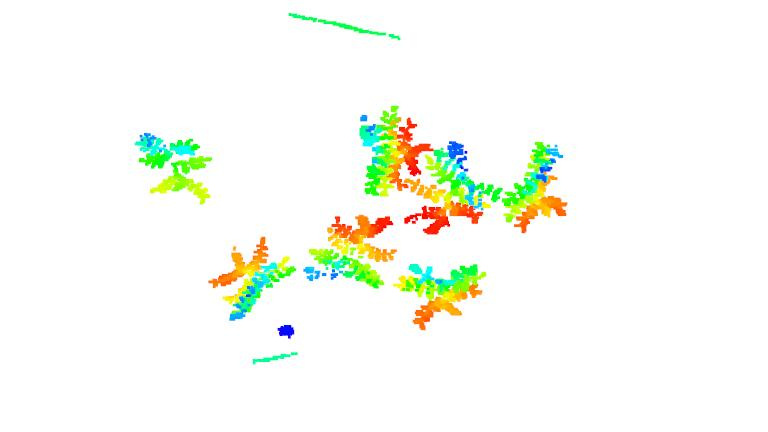chickpea: (402, 139, 501, 236), (207, 233, 299, 324), (355, 104, 434, 198), (304, 212, 398, 290), (499, 141, 569, 234), (395, 262, 489, 331), (134, 132, 215, 206)
